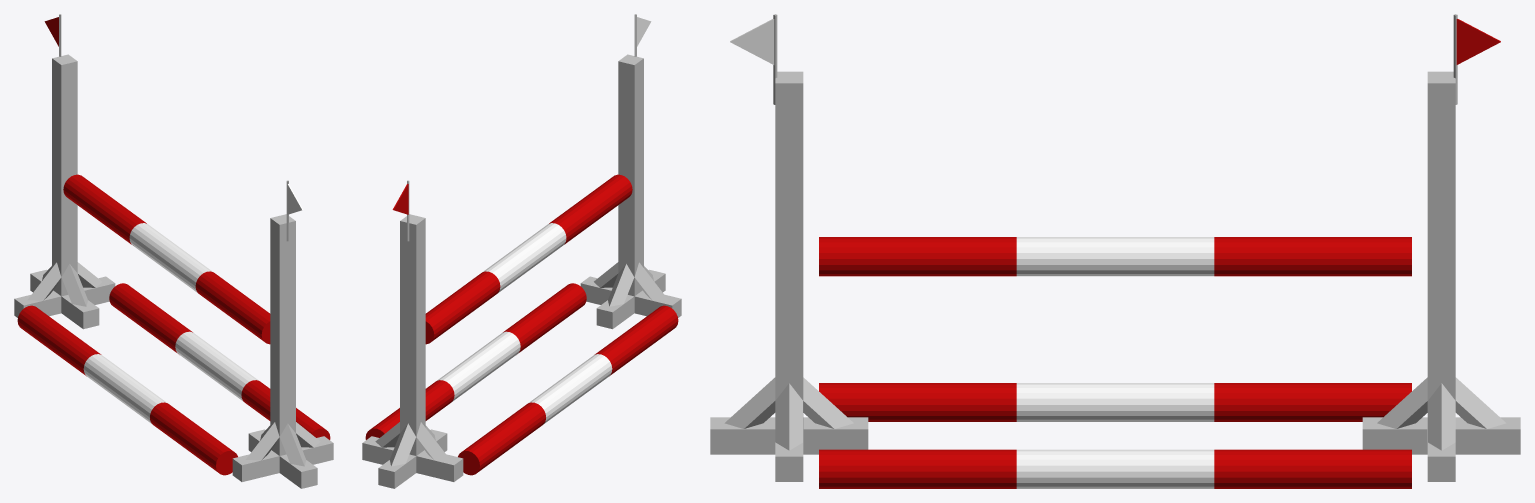
Rendered from practice.obj.
3 renders of one model, left to right at view 1: azimuth 30°, elevation 25°; view 2: azimuth 150°, elevation 25°; view 3: azimuth 270°, elevation 25°, orthographic. The views are drawn at different scales.
Visible parts, largest first — view 1: pole_left_1_Cylinder, pole_right_1_Cylinder.001, groundbar2-1_Cylinder.022, bar1_Cylinder.007, groundbar1-2_Cylinder.017, groundbar2-3_Cylinder.021, bar3_Cylinder.008, bar2_Cylinder.002, groundbar1-3_Cylinder.020, groundbar2-2_Cylinder.018, pole_left_3_Cylinder.006, groundbar1-1_Cylinder.019 (+9 smaller); view 2: pole_right_1_Cylinder.001, pole_left_1_Cylinder, groundbar2-3_Cylinder.021, bar3_Cylinder.008, groundbar1-2_Cylinder.017, groundbar2-1_Cylinder.022, bar1_Cylinder.007, bar2_Cylinder.002, groundbar1-1_Cylinder.019, groundbar2-2_Cylinder.018, pole_right_3_Cylinder.004, groundbar1-3_Cylinder.020 (+9 smaller); view 3: pole_right_1_Cylinder.001, pole_left_1_Cylinder, groundbar1-2_Cylinder.017, bar2_Cylinder.002, groundbar1-3_Cylinder.020, groundbar1-1_Cylinder.019, bar3_Cylinder.008, bar1_Cylinder.007, groundbar2-2_Cylinder.018, groundbar2-1_Cylinder.022, groundbar2-3_Cylinder.021, pole_left_2_Cylinder.005 (+11 smaller).
Boxes of the visible parts, x1=… form: pole_left_1_Cylinder: x1=270, y1=214, x2=295, y2=455; pole_right_1_Cylinder.001: x1=52, y1=54, x2=77, y2=296; groundbar2-1_Cylinder.022: x1=150, y1=402, x2=237, y2=475; bar1_Cylinder.007: x1=195, y1=271, x2=270, y2=344; groundbar1-2_Cylinder.017: x1=175, y1=331, x2=258, y2=402; groundbar2-3_Cylinder.021: x1=17, y1=305, x2=101, y2=376; bar3_Cylinder.008: x1=63, y1=174, x2=146, y2=244; bar2_Cylinder.002: x1=129, y1=223, x2=213, y2=292; groundbar1-3_Cylinder.020: x1=109, y1=283, x2=192, y2=352; groundbar2-2_Cylinder.018: x1=83, y1=354, x2=166, y2=424; pole_left_3_Cylinder.006: x1=232, y1=436, x2=333, y2=481; groundbar1-1_Cylinder.019: x1=241, y1=380, x2=330, y2=439; pole_right_1_Cylinder.001: x1=400, y1=214, x2=425, y2=455; pole_left_1_Cylinder: x1=618, y1=54, x2=643, y2=296; groundbar2-3_Cylinder.021: x1=458, y1=402, x2=545, y2=475; bar3_Cylinder.008: x1=425, y1=271, x2=500, y2=344; groundbar1-2_Cylinder.017: x1=437, y1=331, x2=520, y2=402; groundbar2-1_Cylinder.022: x1=594, y1=305, x2=678, y2=376; bar1_Cylinder.007: x1=549, y1=174, x2=632, y2=244; bar2_Cylinder.002: x1=482, y1=223, x2=566, y2=292; groundbar1-1_Cylinder.019: x1=503, y1=283, x2=586, y2=352; groundbar2-2_Cylinder.018: x1=529, y1=354, x2=612, y2=424; pole_right_3_Cylinder.004: x1=362, y1=436, x2=463, y2=481; groundbar1-3_Cylinder.020: x1=365, y1=380, x2=454, y2=439; pole_right_1_Cylinder.001: x1=1427, y1=71, x2=1455, y2=428; pole_left_1_Cylinder: x1=775, y1=71, x2=803, y2=428; groundbar1-2_Cylinder.017: x1=1016, y1=449, x2=1214, y2=488; bar2_Cylinder.002: x1=1016, y1=237, x2=1214, y2=276; groundbar1-3_Cylinder.020: x1=1214, y1=449, x2=1411, y2=488; groundbar1-1_Cylinder.019: x1=819, y1=449, x2=1016, y2=488; bar3_Cylinder.008: x1=1214, y1=237, x2=1411, y2=276; bar1_Cylinder.007: x1=819, y1=237, x2=1016, y2=276; groundbar2-2_Cylinder.018: x1=1016, y1=383, x2=1214, y2=421; groundbar2-1_Cylinder.022: x1=819, y1=383, x2=1016, y2=421; groundbar2-3_Cylinder.021: x1=1214, y1=383, x2=1411, y2=421; pole_left_2_Cylinder.005: x1=710, y1=417, x2=868, y2=454.
Size of the model in its own units: 100 by 245 by 410.
